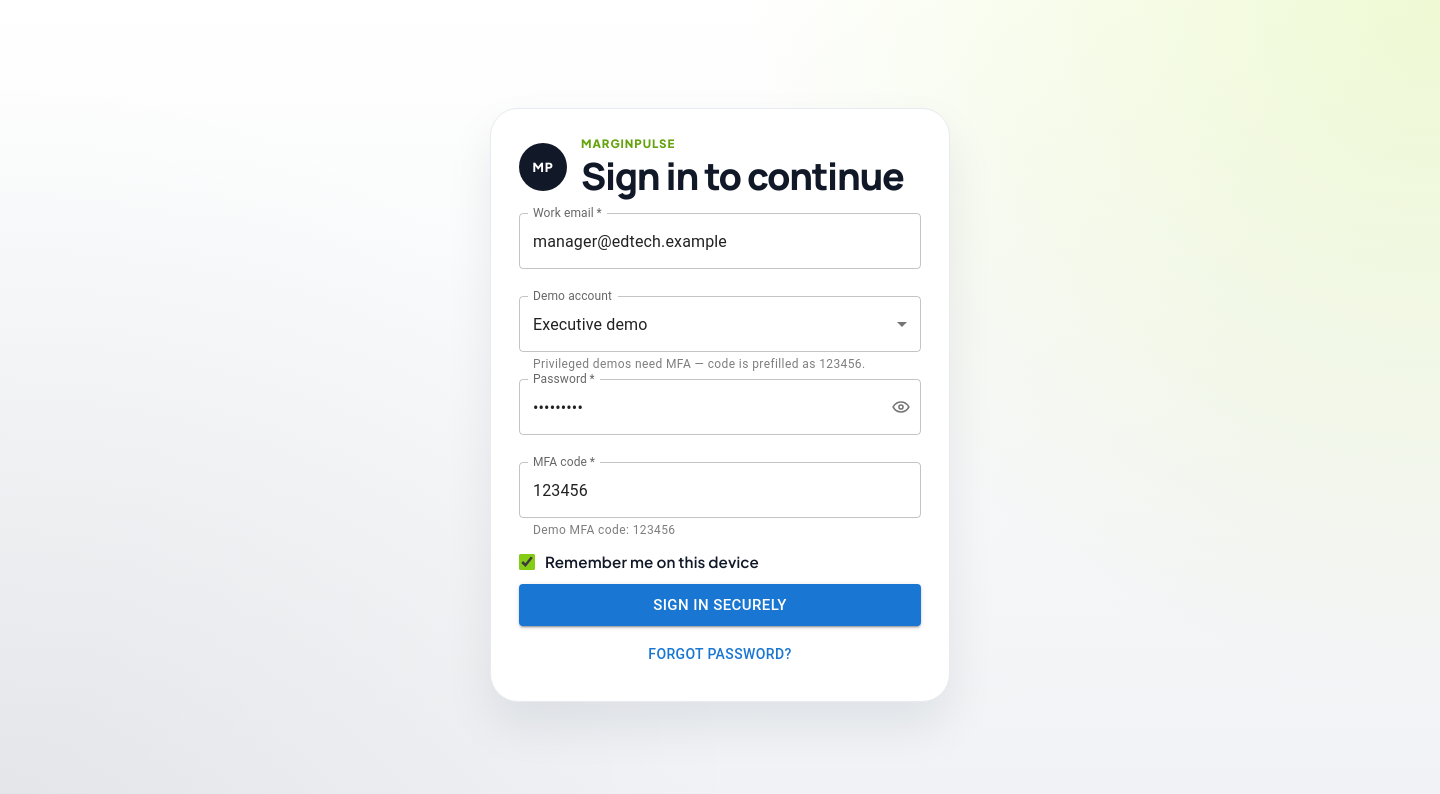
Test: frontend API integration › renders the /discount-recommendations workflow for an authorized user
This screenshot has width=1440, height=794.
Expected: the heading "Sign in to continue" is shown, [581,155,904,197]
Click the button "Sign in securely" at (720, 605), box [519,584,921,626]
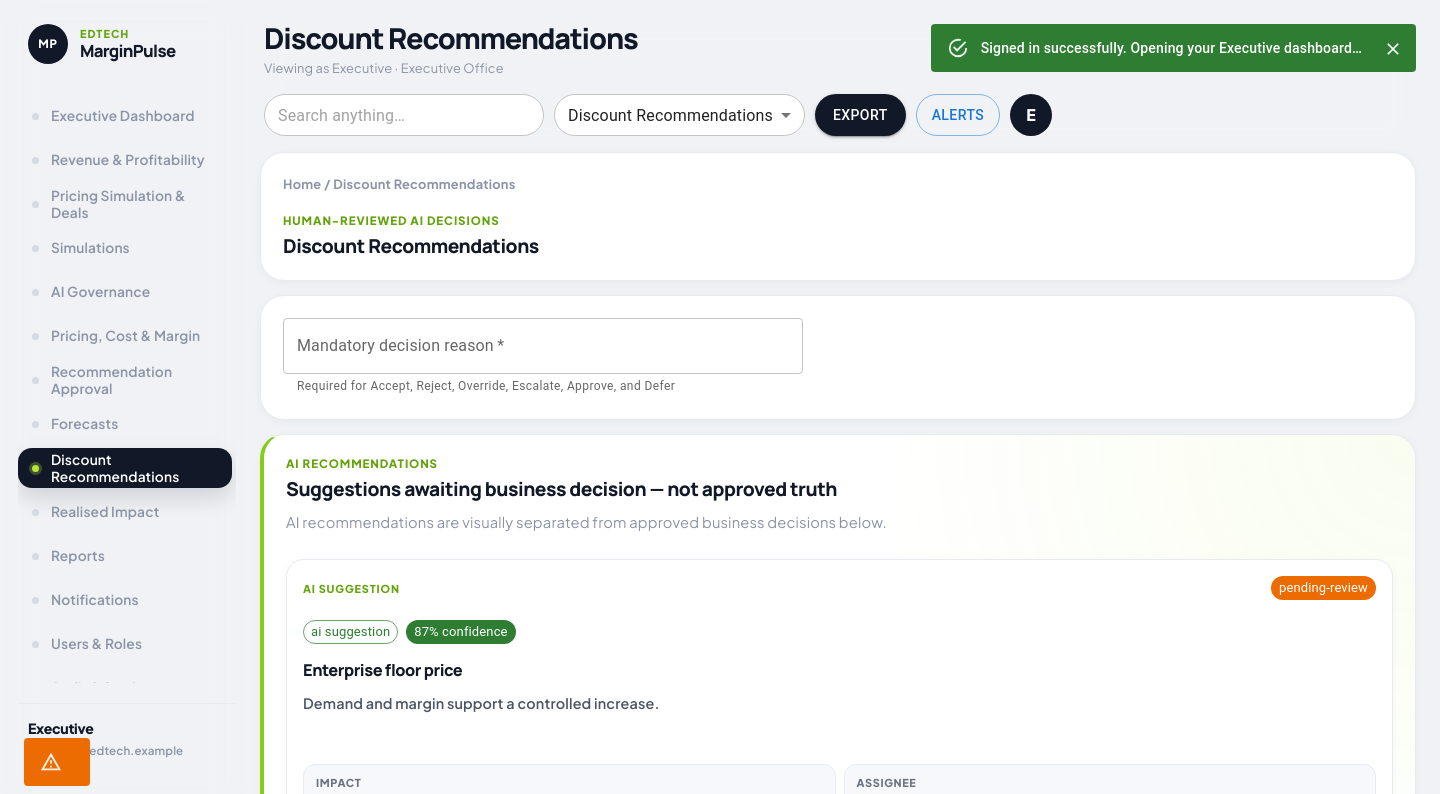
Expected: the text "Discount Recommendations" is shown, [333,176,516,192]
